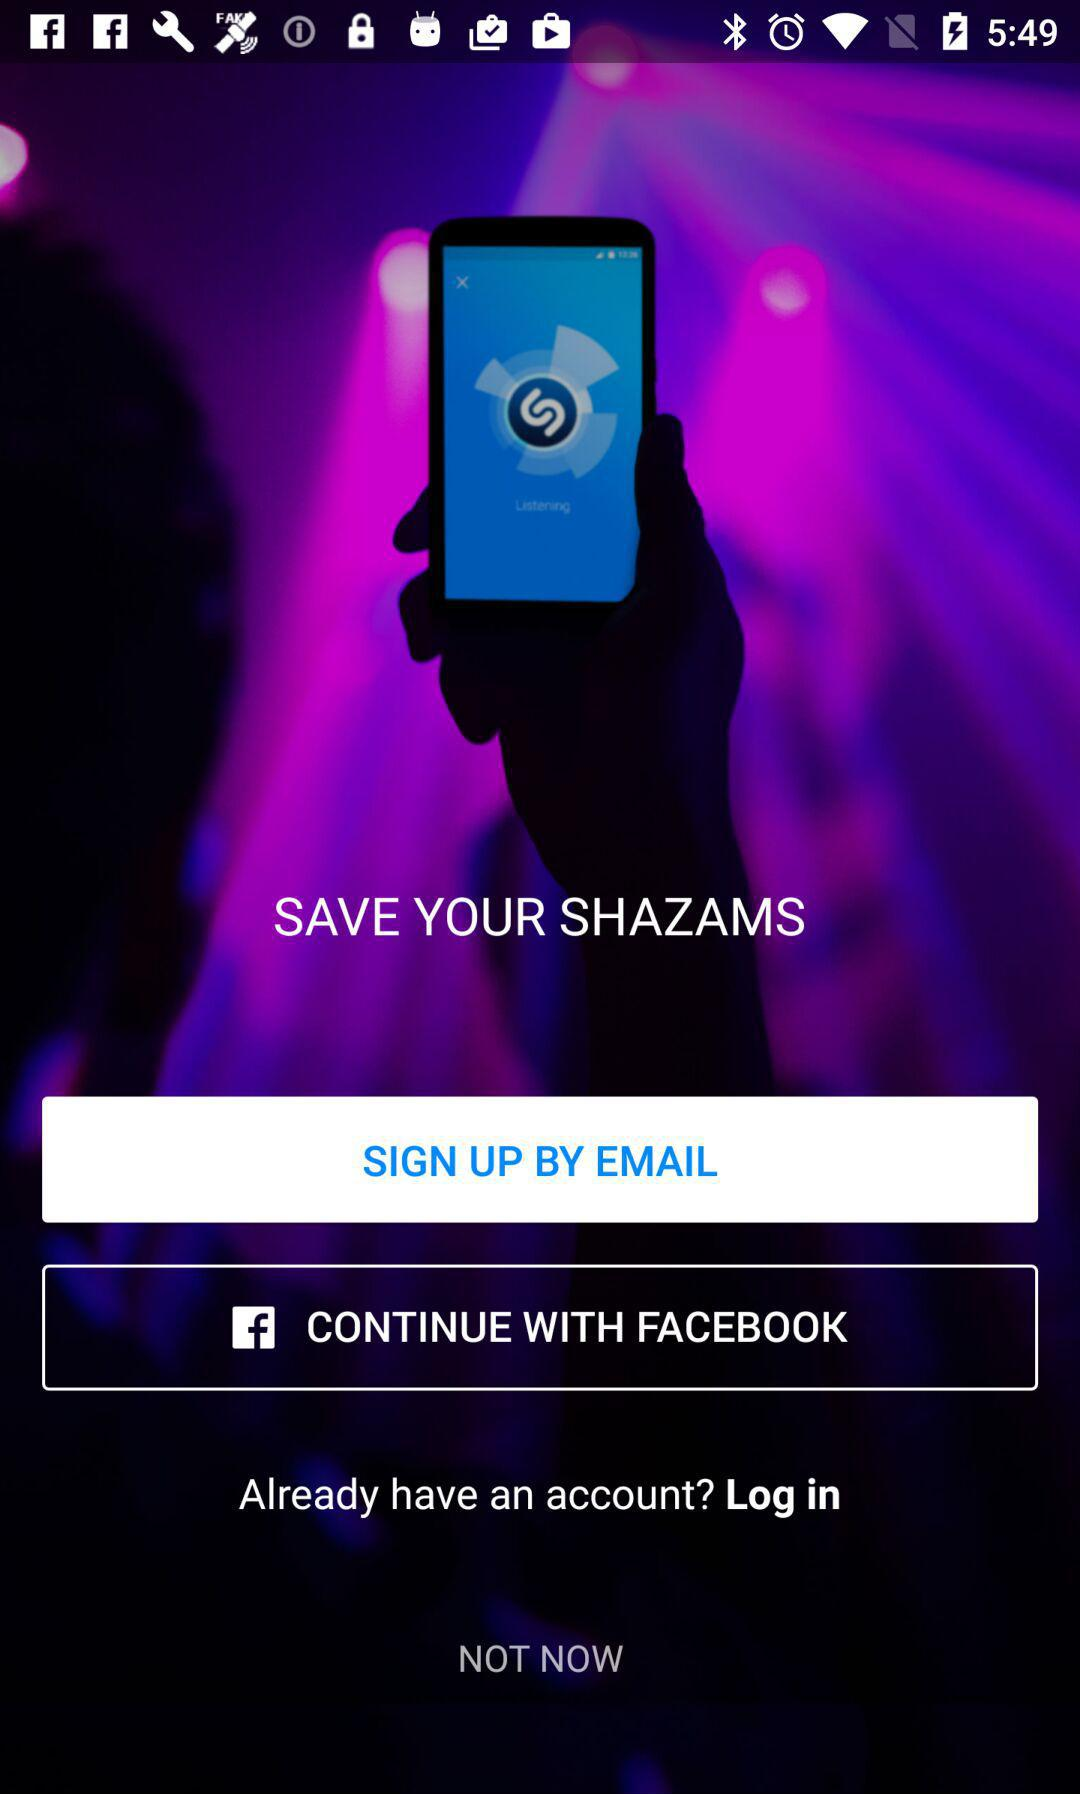BackgroundImage: (1, 63, 1080, 1794)
Text: (240, 1476, 840, 1518), (275, 897, 805, 937), (460, 1644, 624, 1674)
TextButton: (42, 1263, 1038, 1392), (44, 1096, 1038, 1222)
UpperTaskBar: (1, 1, 1080, 63)
